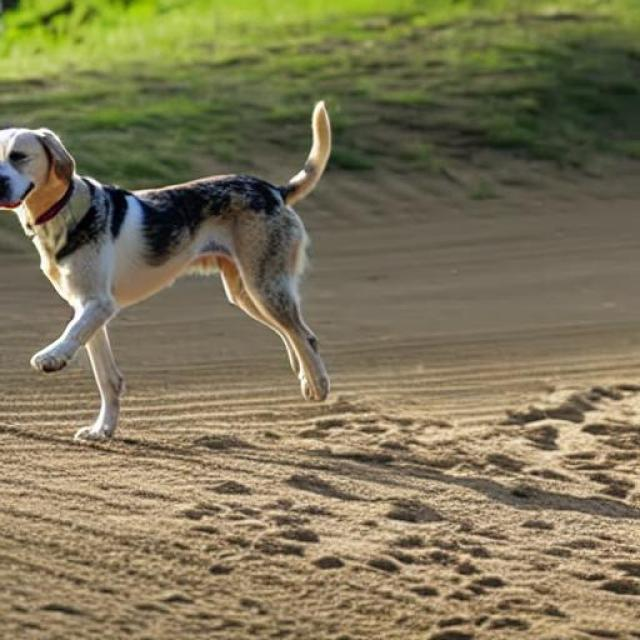Dog: (0, 100, 333, 442)
